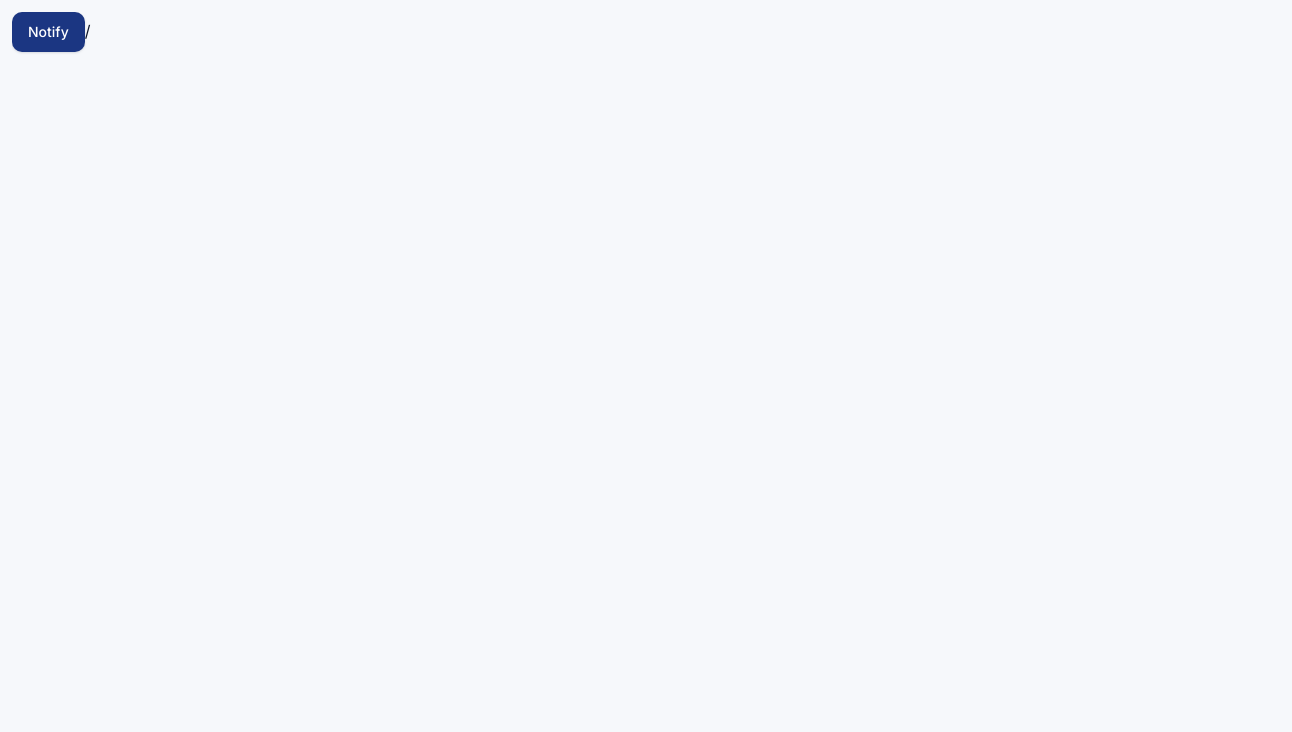
Scenario: Toast › announces politely to screen readers
Click the button "Notify": click(48, 32) left=12, top=12, right=85, bottom=52
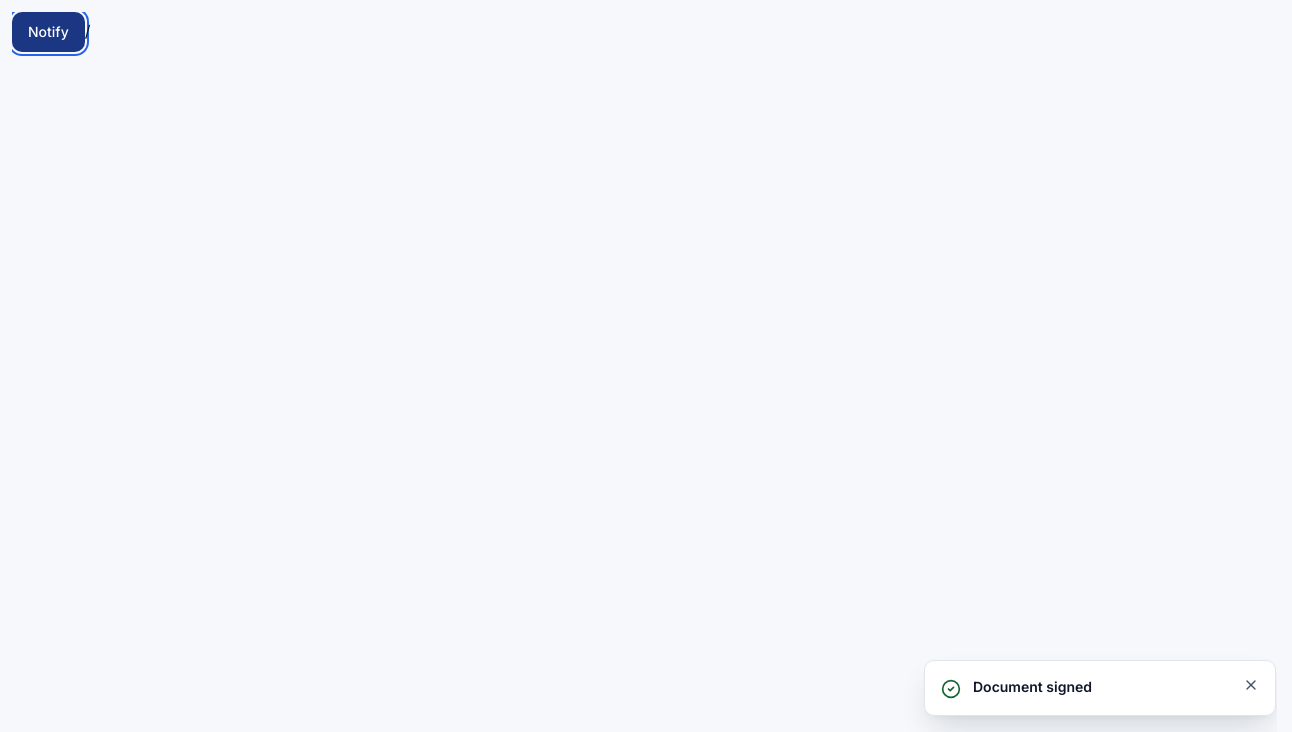
Now the text "Document signed" is shown, box left=973, top=677, right=1092, bottom=697
